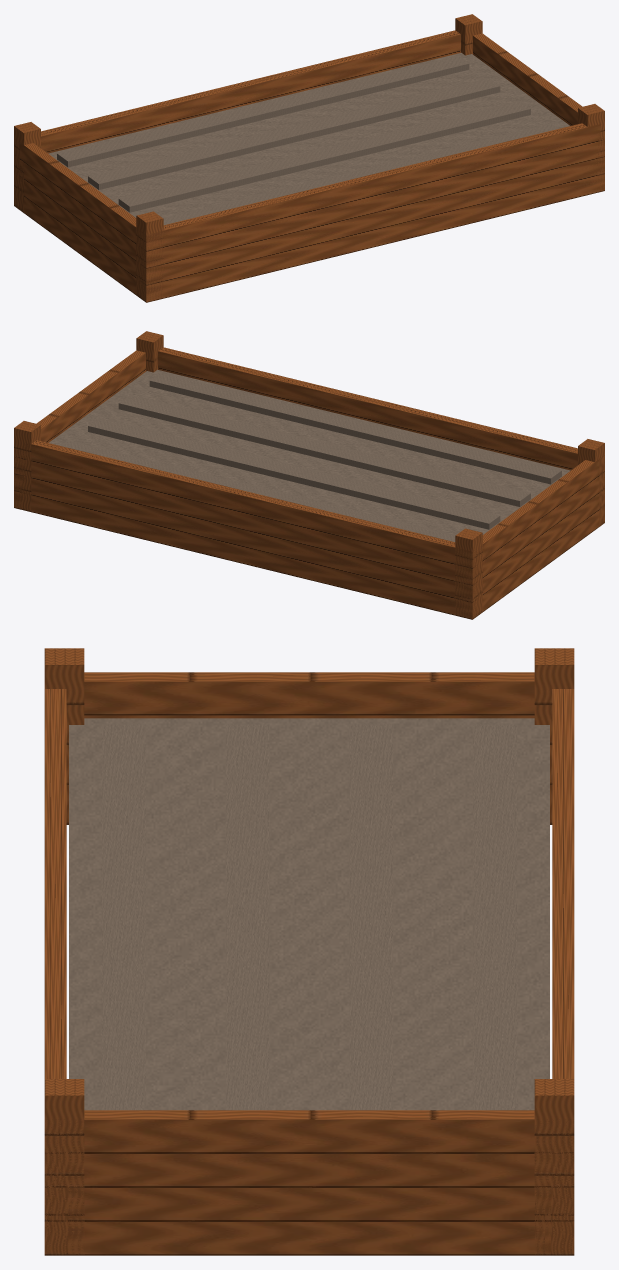
Rendered from allotments-and-community-garden-raised-bed-empty-aff363d1__35137.glb.
The picture shows the model from 3 angles, top to bottom: view 1: azimuth 30°, elevation 25°; view 2: azimuth 150°, elevation 25°; view 3: azimuth 270°, elevation 25°; orthographic projection. The views are drawn at different scales.
Visible parts, largest first — view 1: raised-bed-empty-timber, raised-bed-empty-soil; view 2: raised-bed-empty-timber, raised-bed-empty-soil; view 3: raised-bed-empty-soil, raised-bed-empty-timber.
Boxes of the visible parts, x1,y1,x2,y2 form: raised-bed-empty-timber: (14, 14, 604, 302); raised-bed-empty-soil: (48, 52, 569, 224); raised-bed-empty-timber: (14, 331, 604, 619); raised-bed-empty-soil: (49, 369, 570, 541); raised-bed-empty-soil: (69, 718, 549, 1110); raised-bed-empty-timber: (44, 648, 574, 1255).
Size of the model in its own units: 2.4 by 0.4 by 1.2.
Materials: 2 (2 with a texture image).
